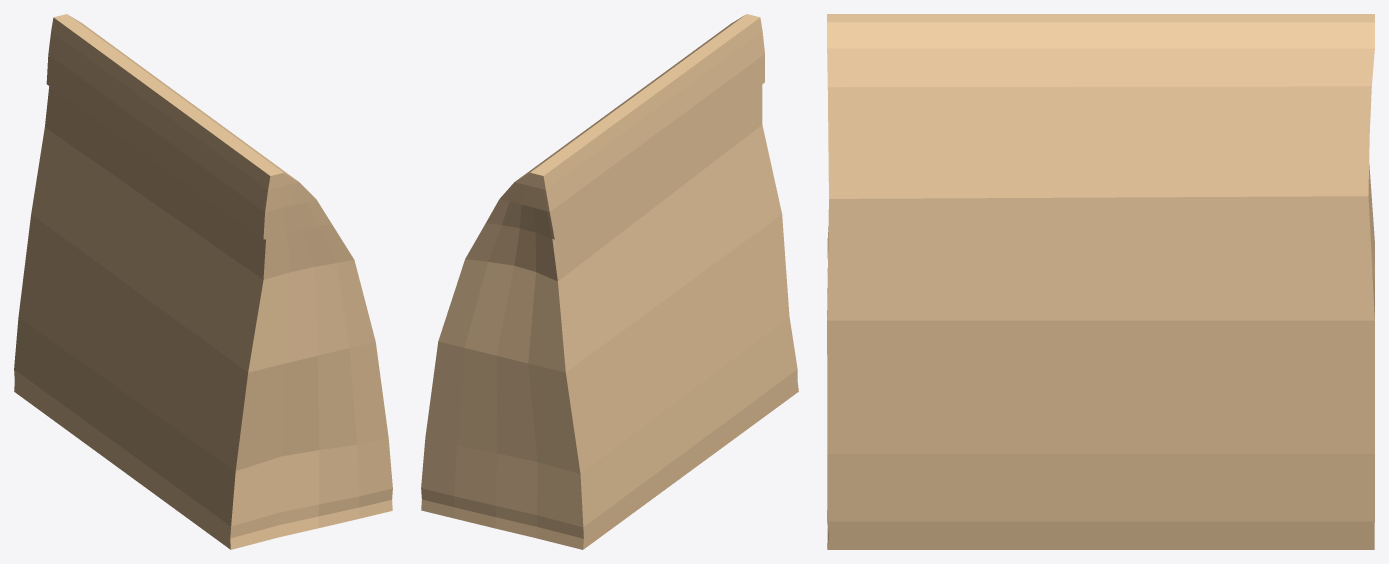
Rendered from seed package 2.fbx.
3 views of the same model, side by side, from view 1: azimuth 30°, elevation 25°; view 2: azimuth 150°, elevation 25°; view 3: azimuth 270°, elevation 25° (orthographic). The views are drawn at different scales.
Parts seen in each view (by area): view 1: package; view 2: package; view 3: package.
Part boxes in pixels (<box>): package: <box>14,14,392,549</box>; package: <box>421,14,798,549</box>; package: <box>827,14,1374,549</box>.
Size of the model in its own units: 6.03 by 12.96 by 13.97.
